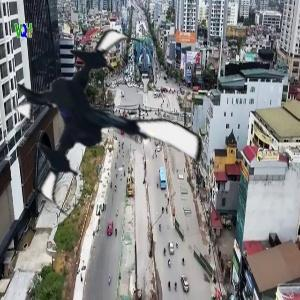drone: (4, 26, 208, 230)
